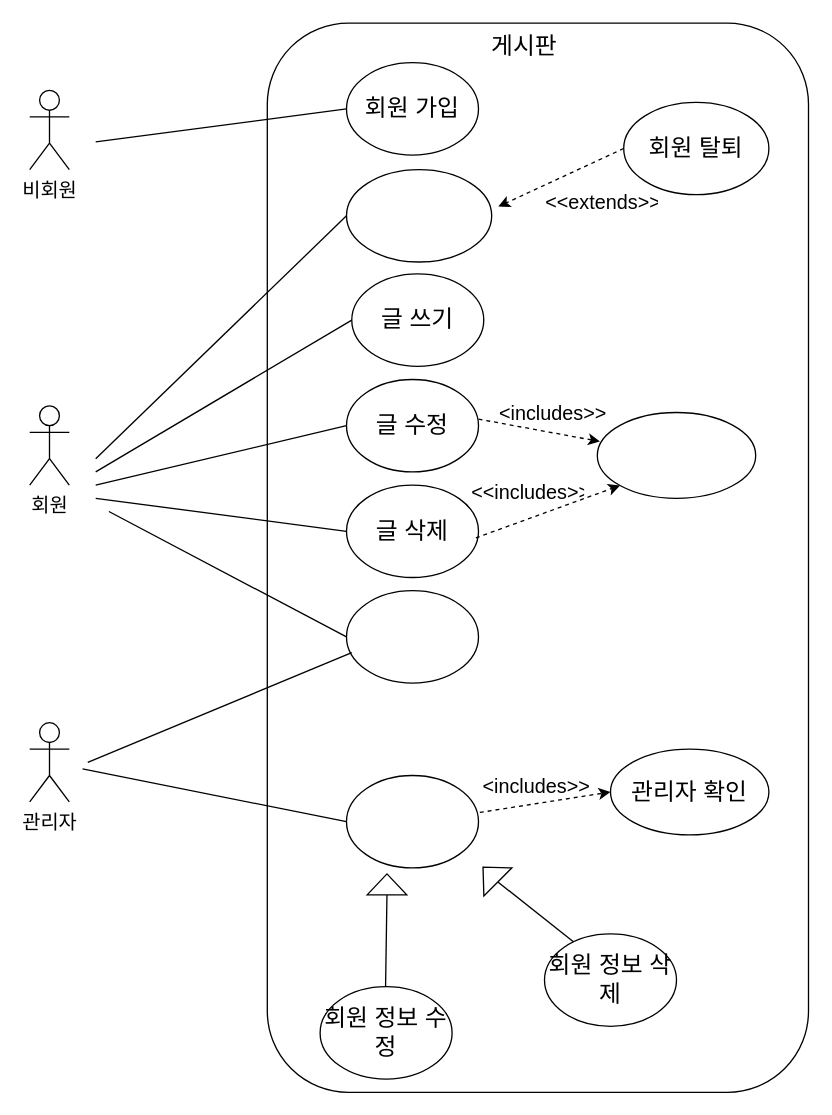
Some shapes in this 832 by 1115 pixel diagram are drawn without their labels. Here are the shapes that lost their labels. From the top down, the centre of each, then its label:
(x=418, y=215): 내 정보 보기
(x=676, y=454): 글쓴이 확인
(x=411, y=636): 글 보기
(x=411, y=821): 회원 관리
